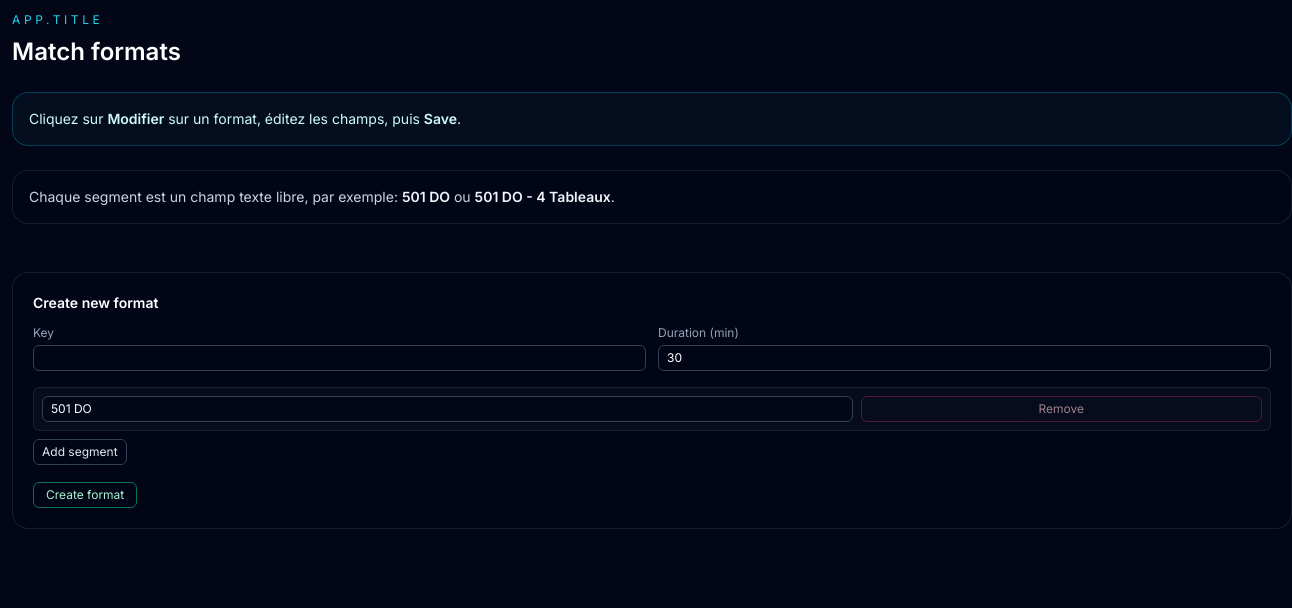
Test: MatchFormatsView › shows create fallback error when create fails with non-Error value
Expected: the heading "Create new format" is shown, [33,294,158,311]
Type "BO3" into the field labelled "Key" at (340, 358), box [33,345,646,371]
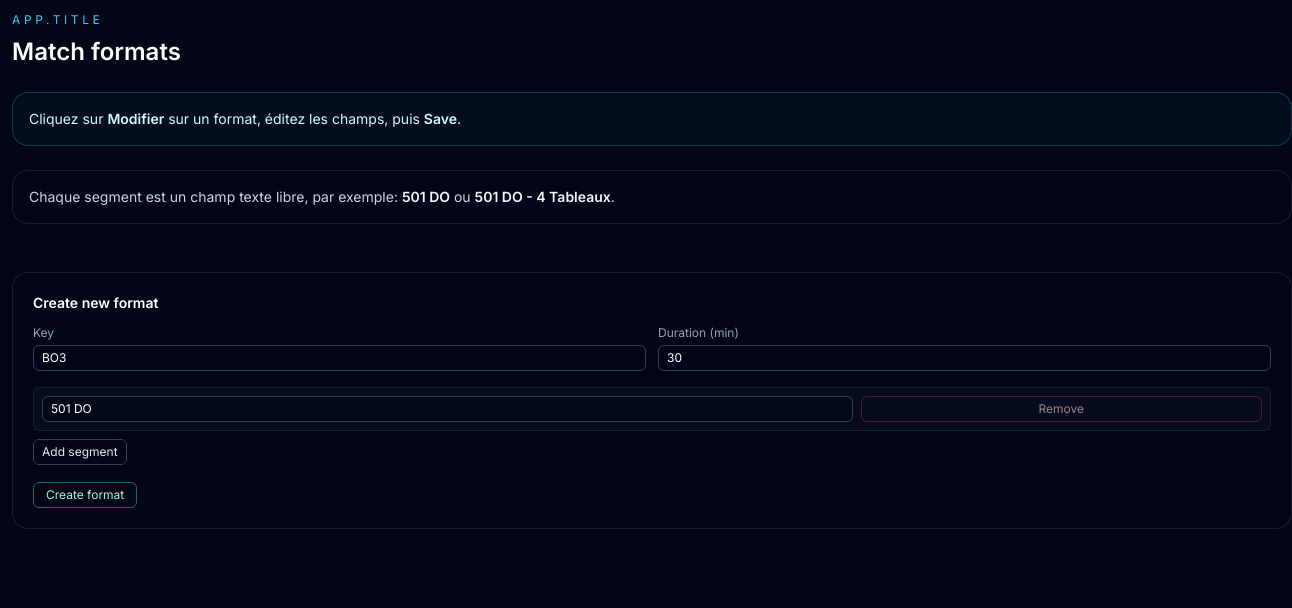
Click the button "Create format" at (85, 495), box [33,482,137,508]
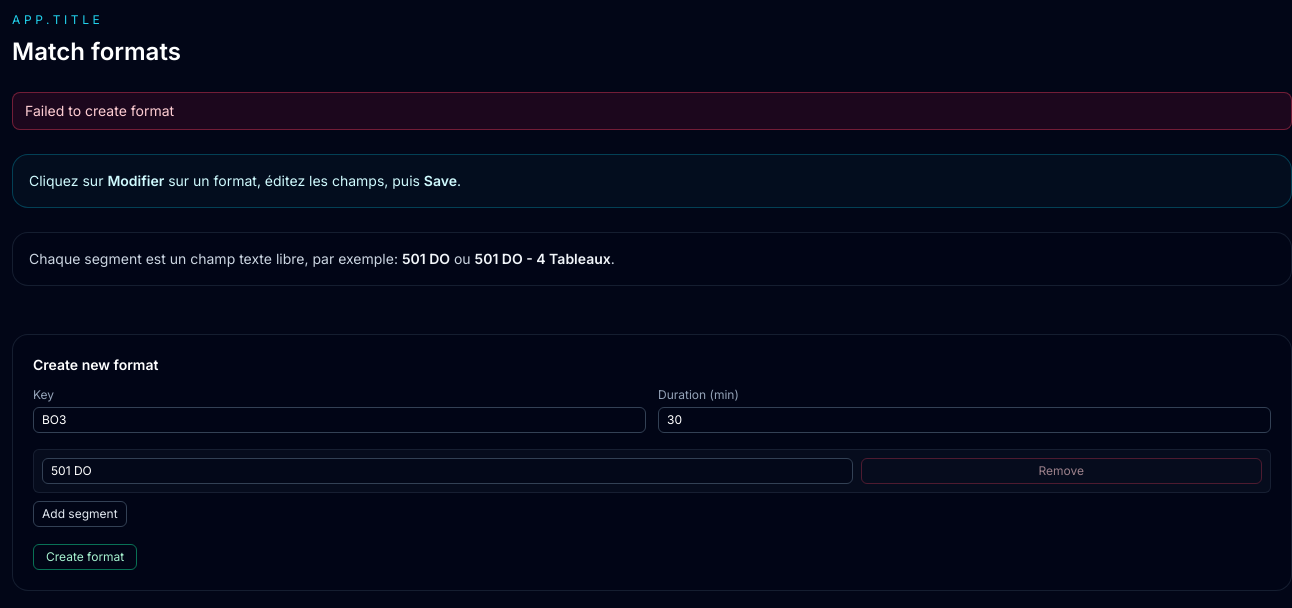
Result: the text "Failed to create format" is shown at [12,92,1291,130]
